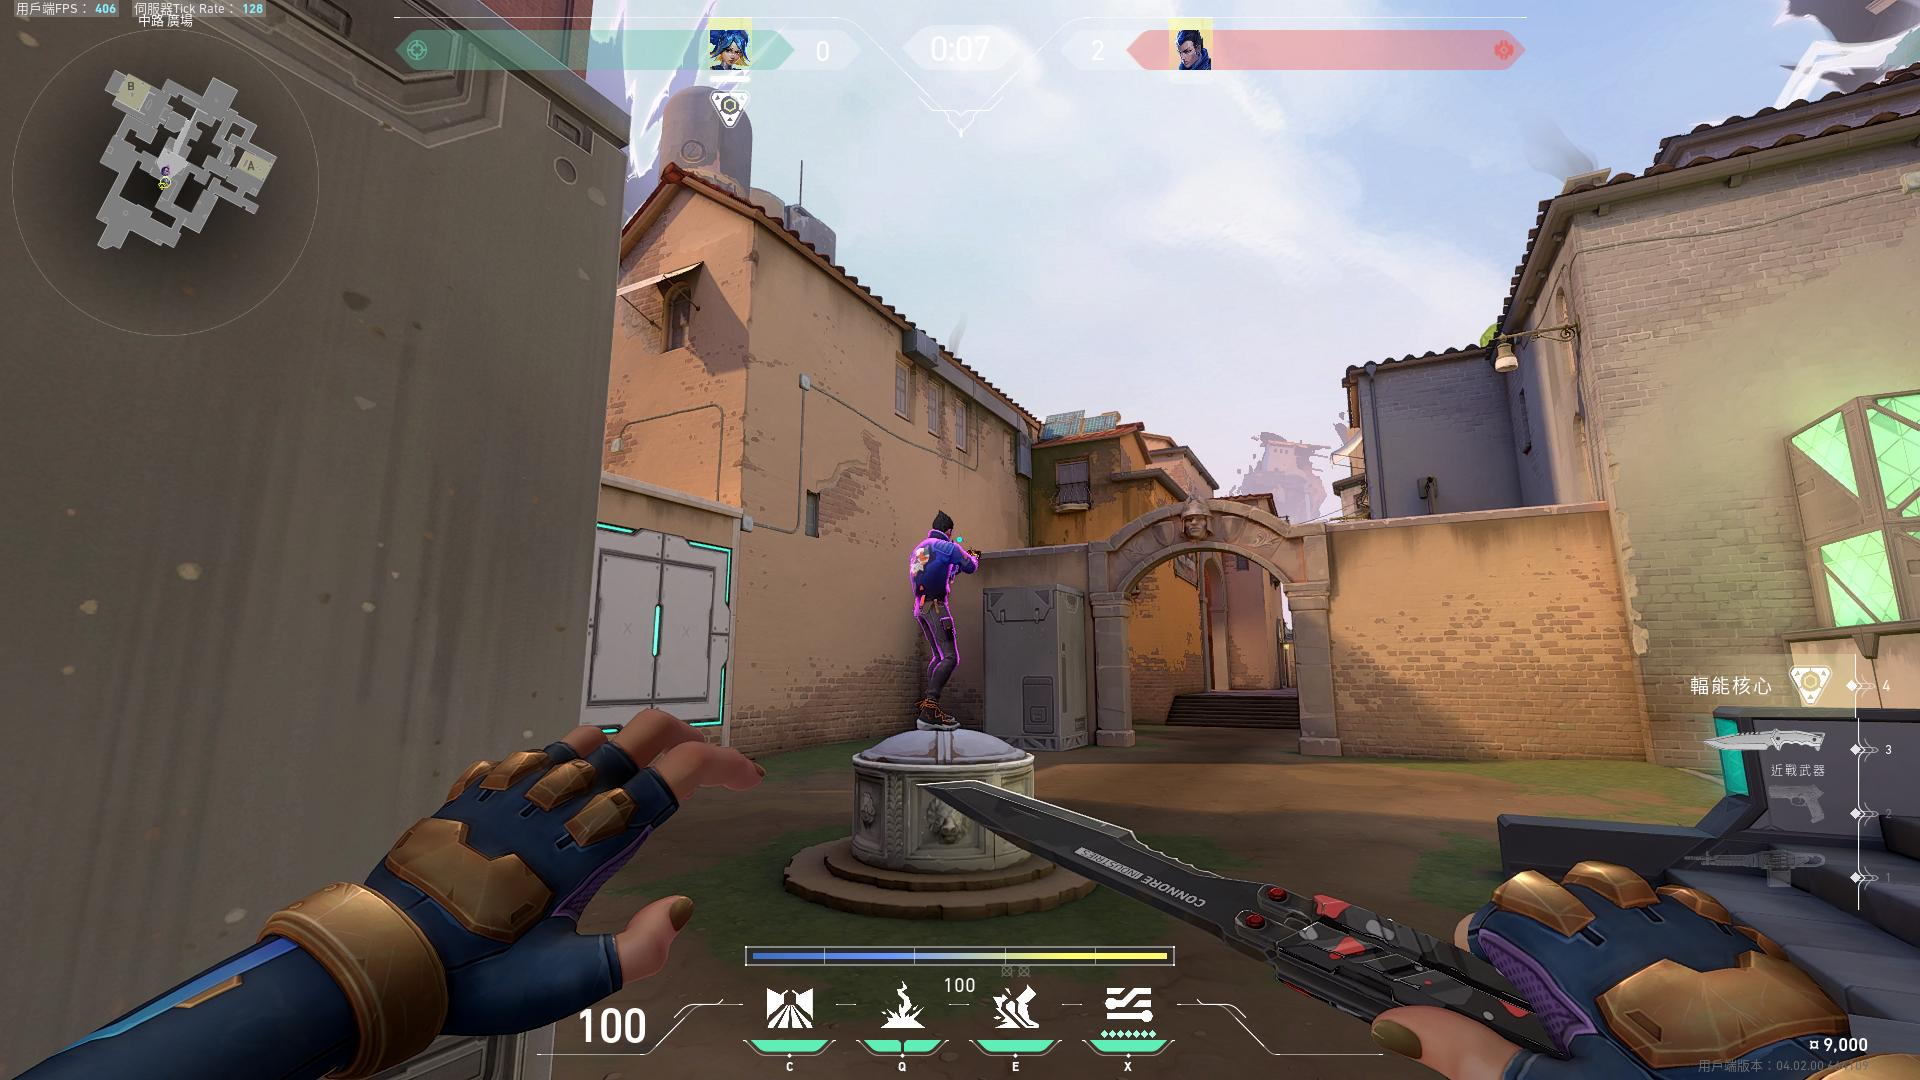enemyBody: (920, 543, 942, 593)
enemyHead: (936, 520, 949, 534)
